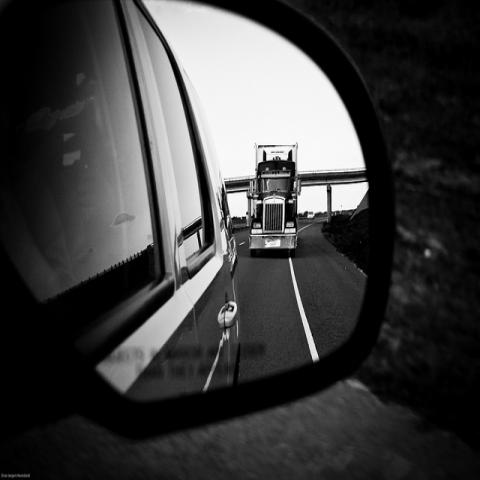car: (0, 2, 241, 399)
truck: (250, 144, 297, 260)
